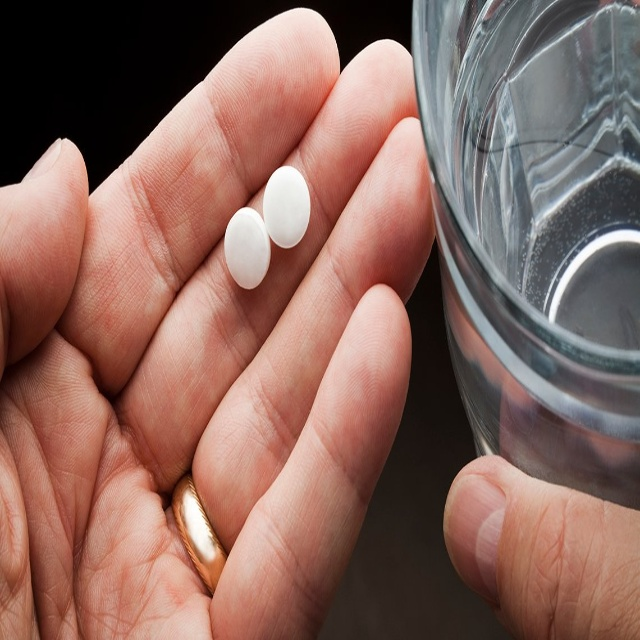pill: (398, 211, 482, 301), (468, 170, 553, 255)
